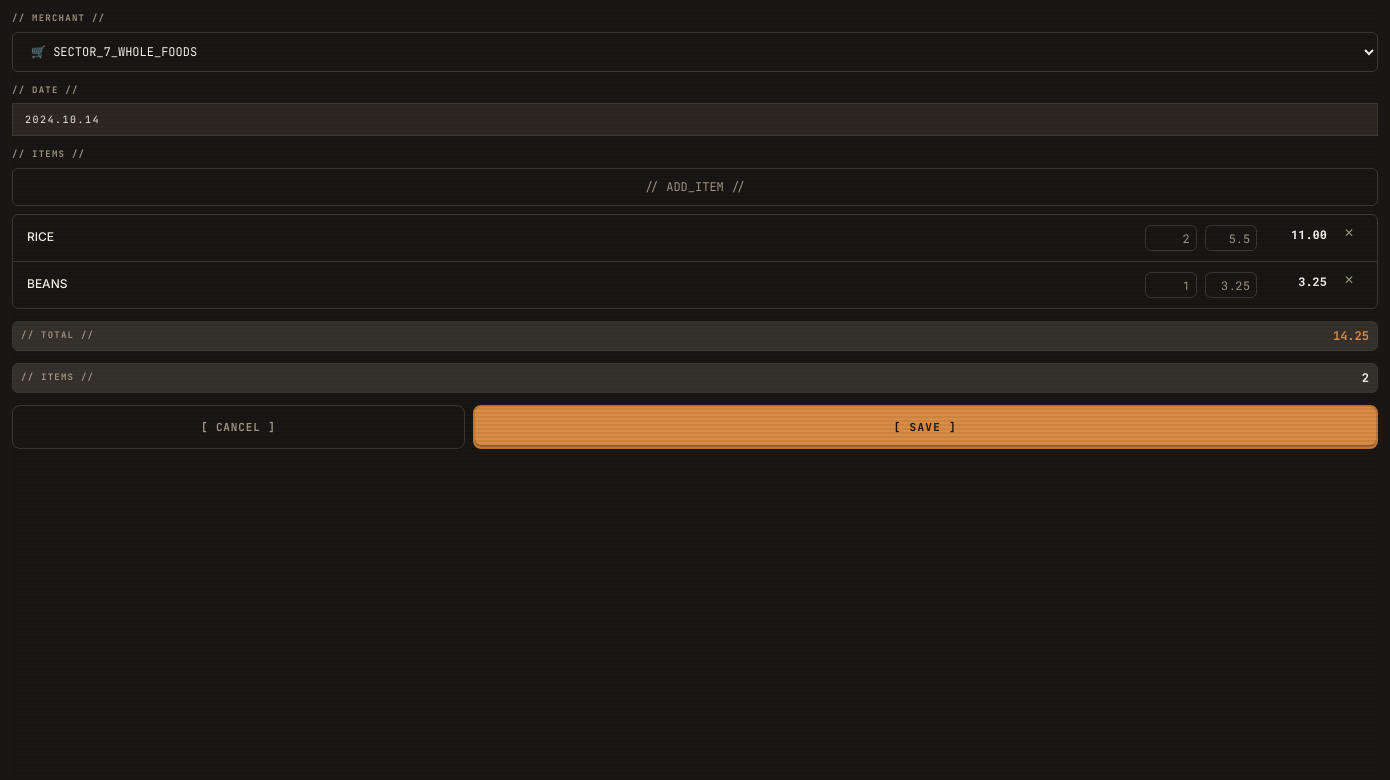
it: ReceiptEditForm › Add item via selector › adds a new item row when selected from selector
Check: the number of number fields named "QTY" is 2, box [1145,224,1197,250]; [1145,272,1197,298]
Click the button "// ADD_ITEM //": coordinates (695, 186) [12,168,1378,206]
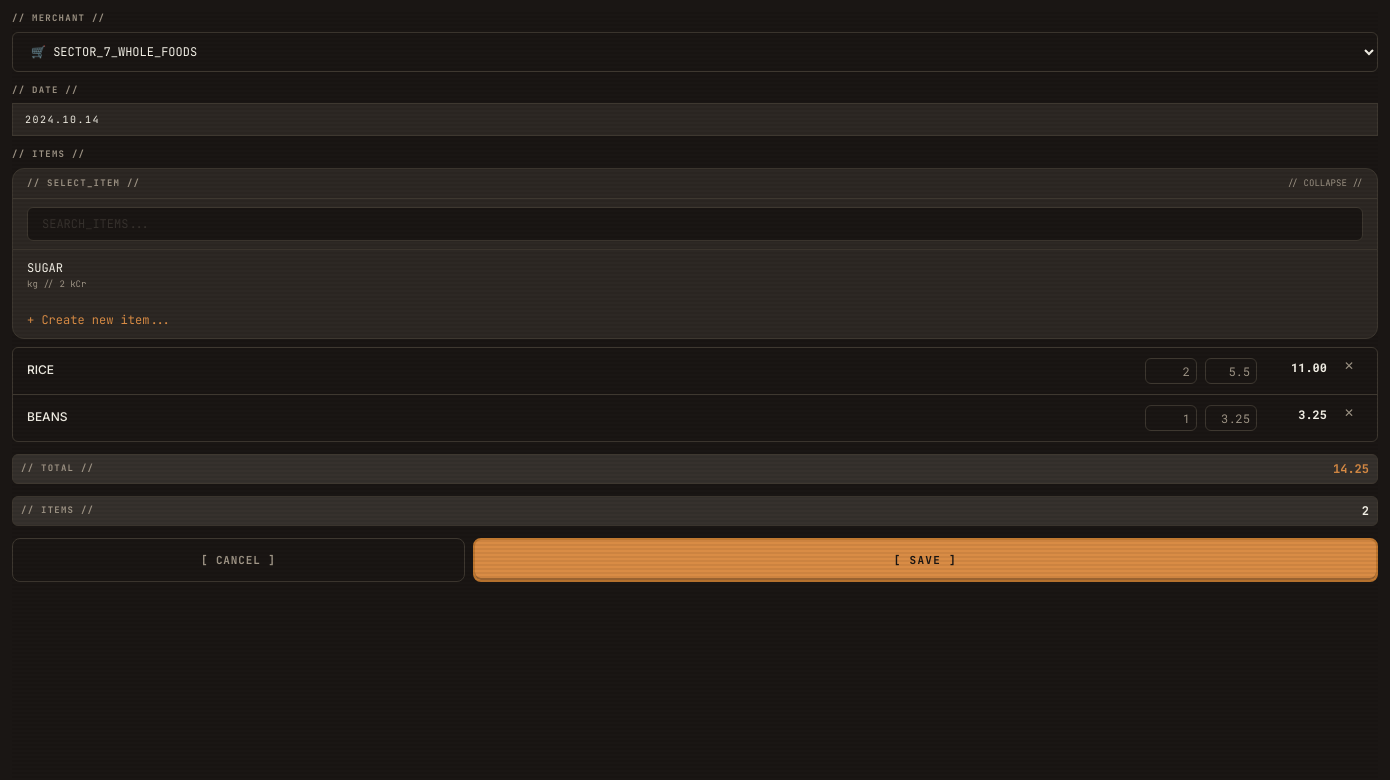
Click the text "SUGAR": coordinates (45, 268) [27,260,63,276]
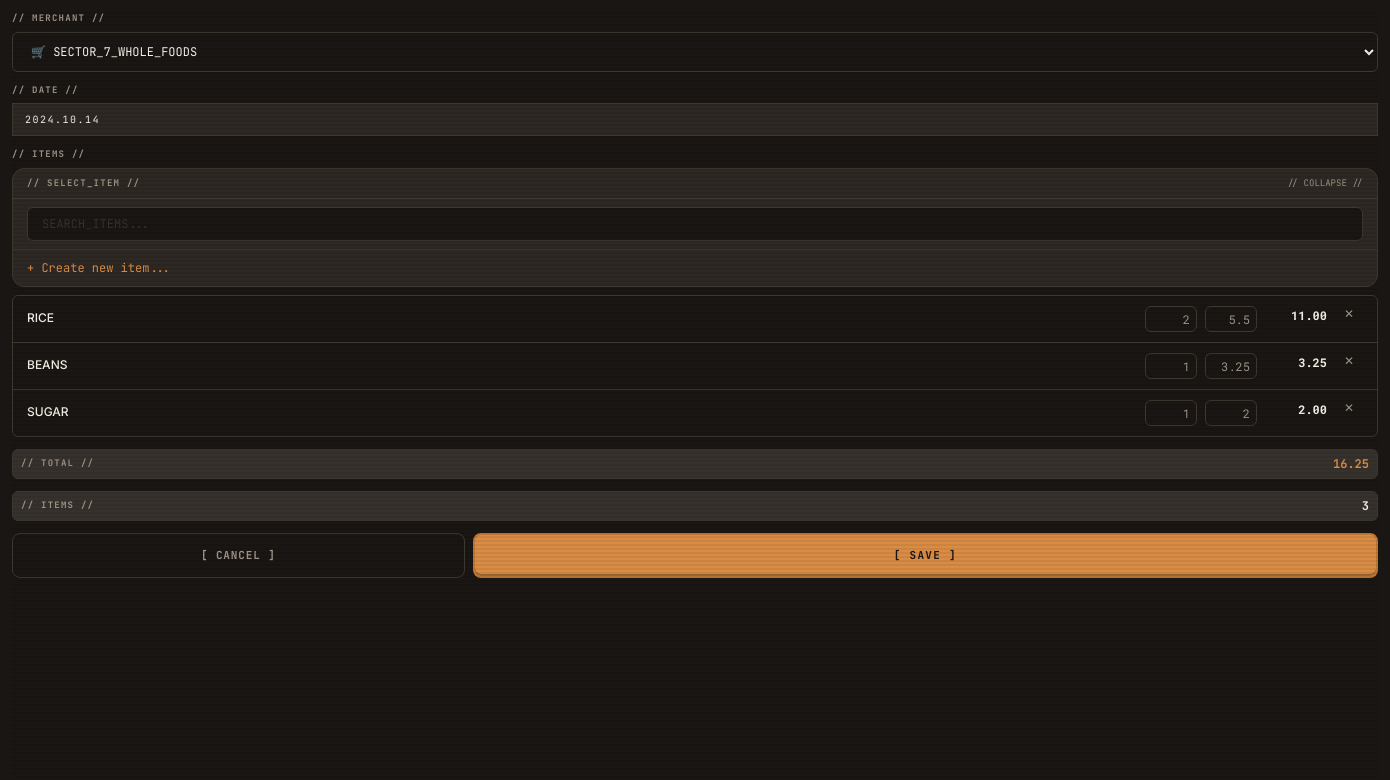
Check: the text "SUGAR" is shown, box [27,404,69,419]
Check: the number of number fields named "QTY" is 3, box [1145,306,1197,332]; [1145,353,1197,379]; [1145,400,1197,426]
